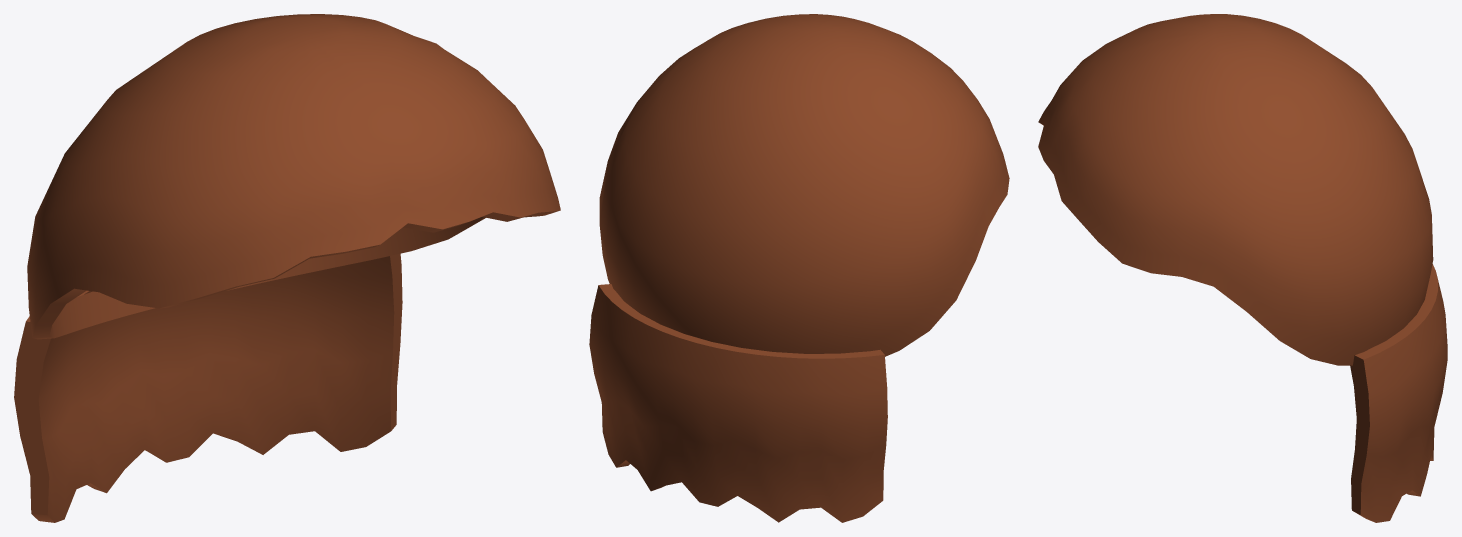
File: Char_Hair_Mullet.fbx
The picture shows the model from 3 angles, left to right: view 1: azimuth 30°, elevation 25°; view 2: azimuth 150°, elevation 25°; view 3: azimuth 270°, elevation 25°; orthographic projection. The views are drawn at different scales.
Visible parts, largest first — view 1: Hair; view 2: Hair; view 3: Hair.
Part boxes in pixels (<box>): Hair: <box>14,14,560,522</box>; Hair: <box>589,14,1009,522</box>; Hair: <box>1038,14,1447,522</box>.
Size of the model in its own units: 133 by 143 by 124.
